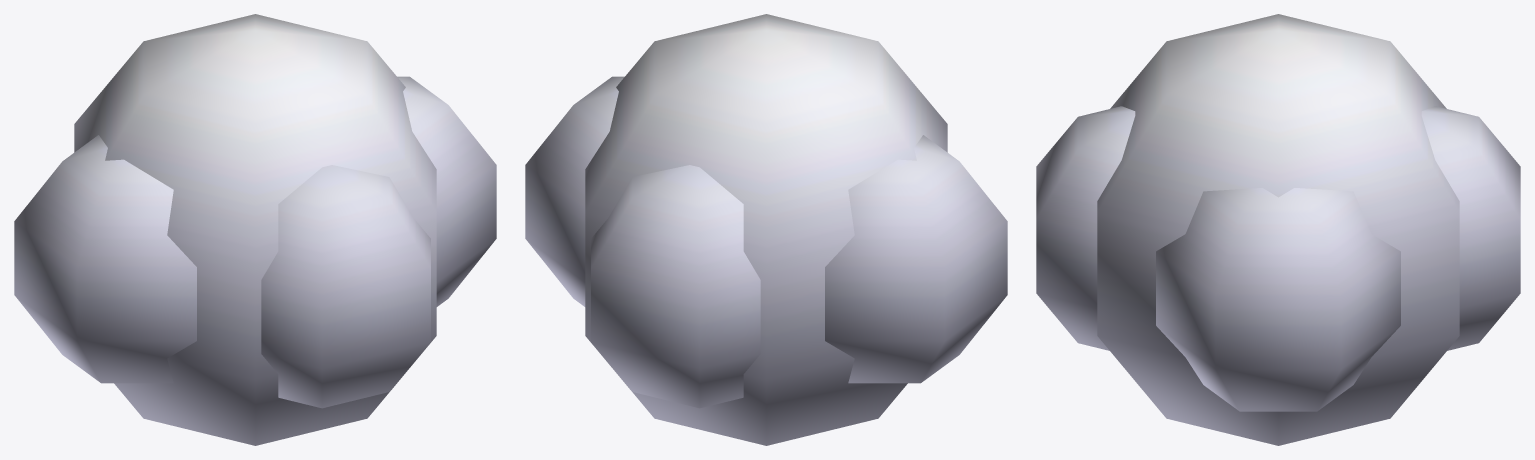
The model's file is Cloud.gltf.
3 renders of one model, left to right at view 1: azimuth 30°, elevation 25°; view 2: azimuth 150°, elevation 25°; view 3: azimuth 270°, elevation 25°, orthographic.
Visible parts, largest first — view 1: cloud; view 2: cloud; view 3: cloud.
Part boxes in pixels (left/top/right/bottom): cloud: left=14, top=14, right=496, bottom=445; cloud: left=525, top=14, right=1007, bottom=445; cloud: left=1036, top=14, right=1520, bottom=445.
Size of the model in its own units: 0.3631 by 0.33 by 0.3631.
1 material, 1 textured.
